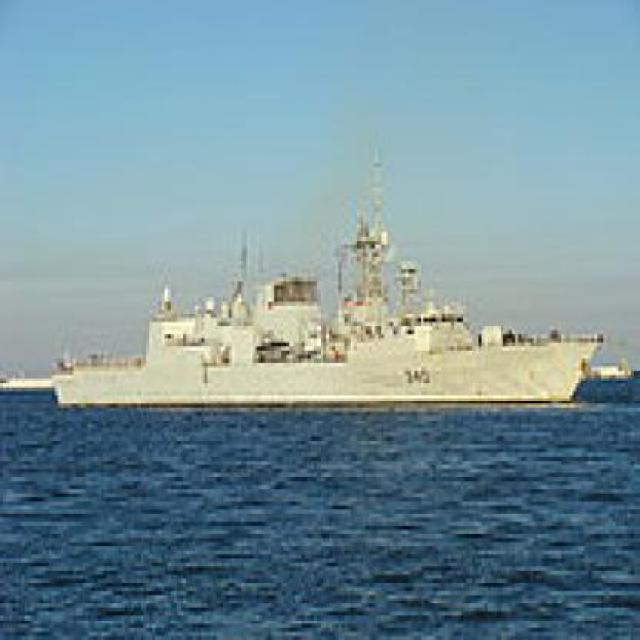warship2: (46, 217, 611, 420)
